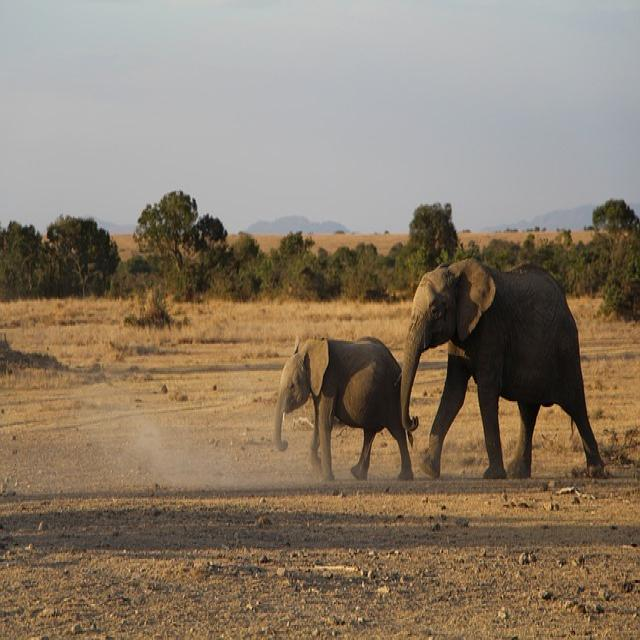elephant: (401, 259, 604, 479), (275, 340, 412, 481)
